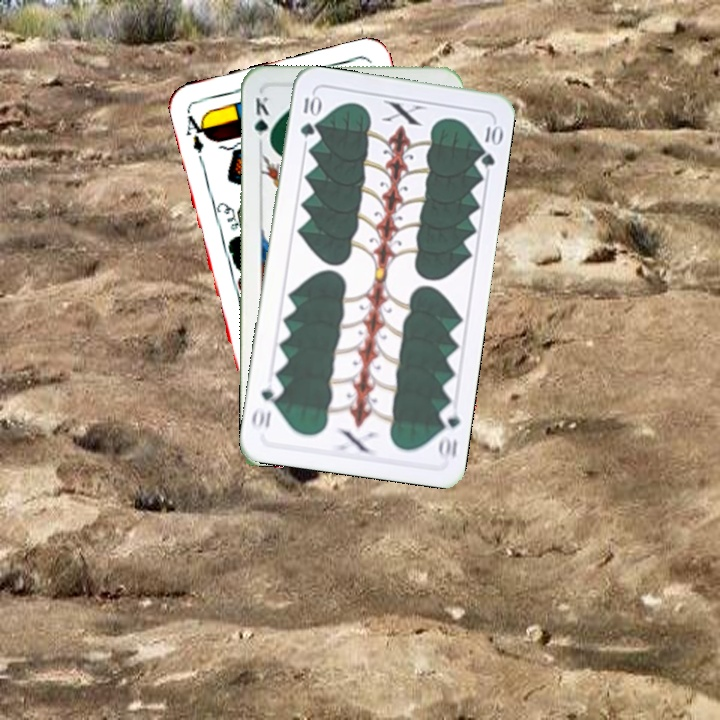EA: (182, 111, 211, 156)
G10: (434, 402, 463, 462), (296, 90, 321, 140)
GK: (251, 92, 273, 149)
